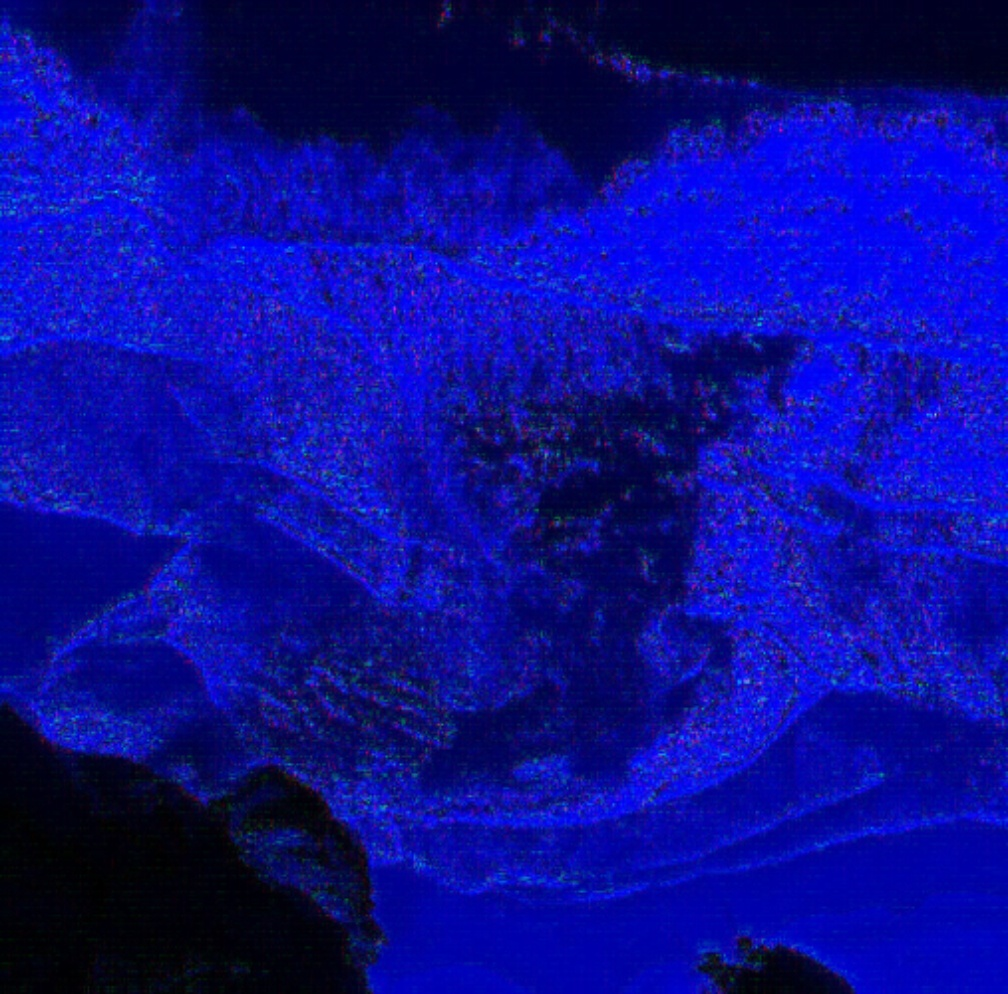rip_current: (415, 190, 772, 806)
